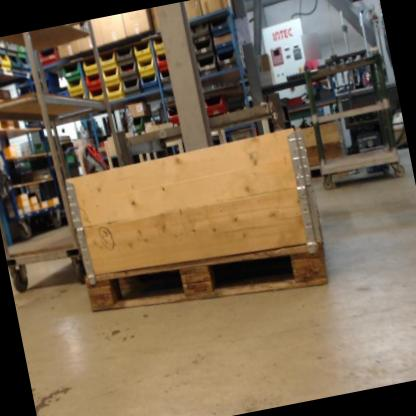pallet: (82, 230, 331, 331), (308, 159, 349, 182)
